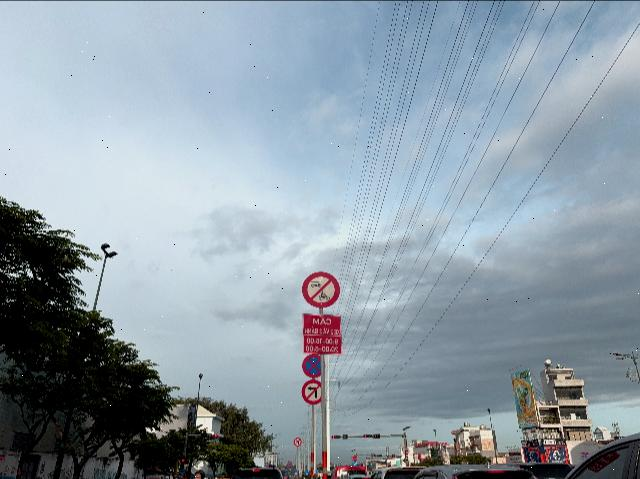cam-dung-va-do-xe: (302, 354, 321, 378)
cam-re-phai: (302, 380, 322, 406)
cam-xe-2-banh-3-banh: (302, 272, 340, 308)
